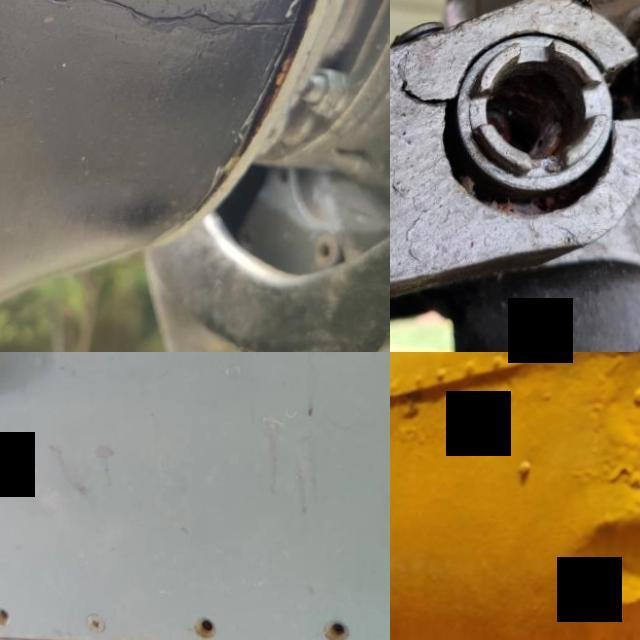Crack: (0, 0, 333, 117), (392, 56, 464, 115)
Dent: (549, 486, 640, 640)
Missing_Fastener: (181, 601, 243, 640), (310, 606, 381, 640), (0, 589, 37, 640)
